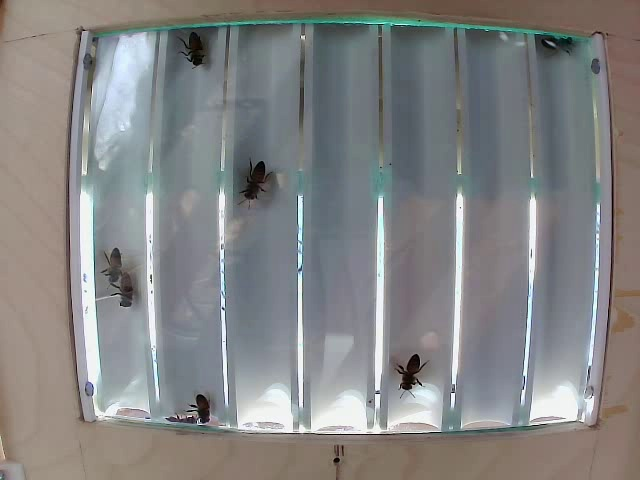bee: (242, 161, 277, 219), (176, 33, 211, 80), (393, 346, 428, 393), (93, 248, 131, 286), (114, 275, 141, 307)
